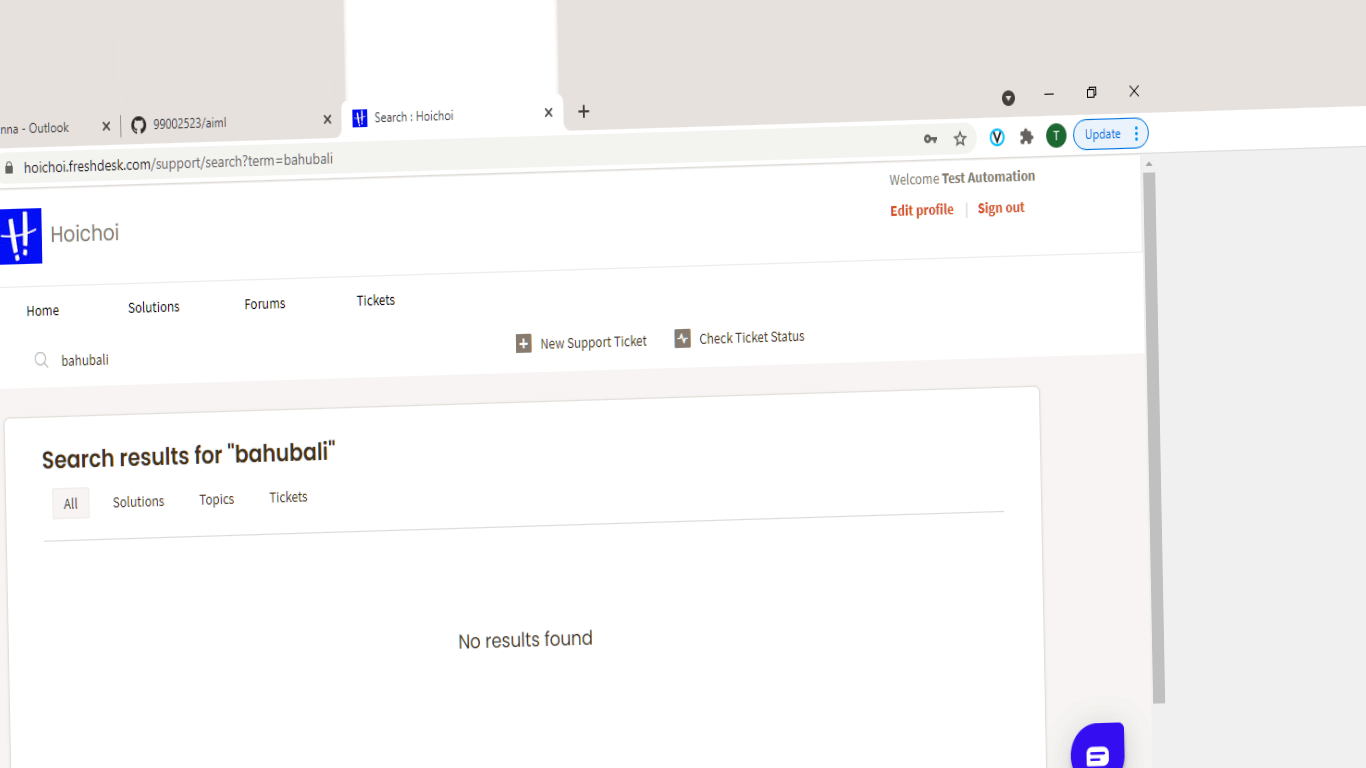noresultsfound: (26, 429, 356, 477)
profileicon: (872, 192, 961, 225)
searchicon: (29, 346, 59, 379)
searchtextbox: (25, 331, 405, 386)
